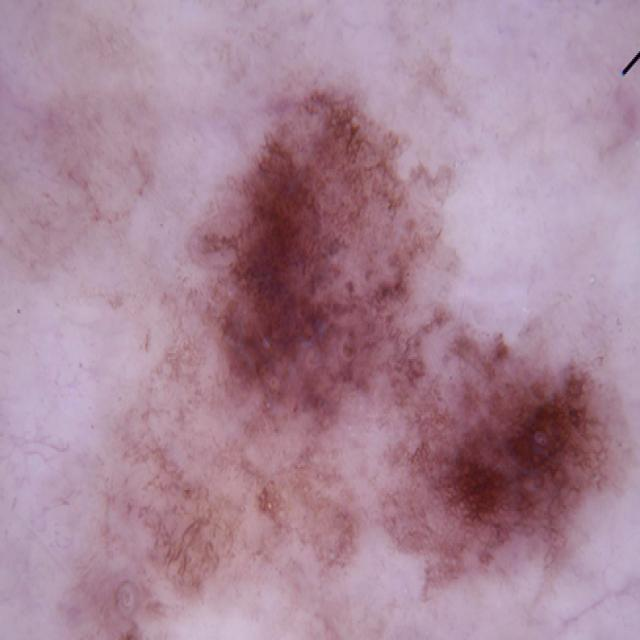Keratosis: (190, 94, 601, 598)
